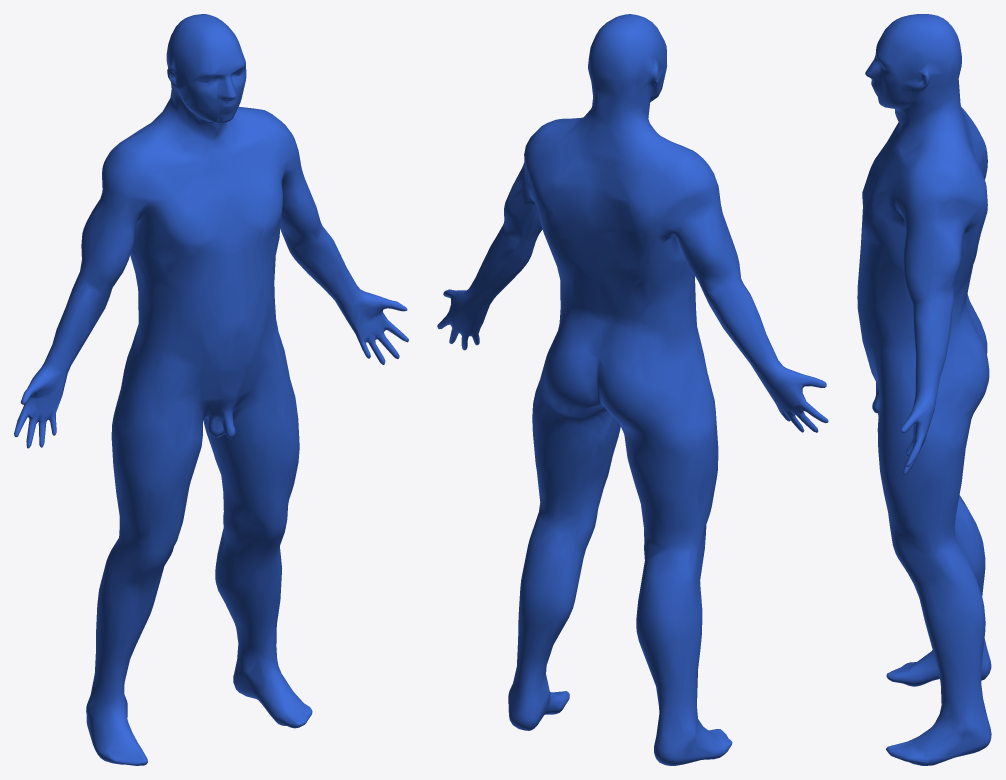
The model's file is skin_shell.glb.
The picture shows the model from 3 angles, left to right: view 1: azimuth 30°, elevation 25°; view 2: azimuth 150°, elevation 25°; view 3: azimuth 270°, elevation 25°; orthographic projection. The views are drawn at different scales.
Parts seen in each view (by area): view 1: VH_M_skin; view 2: VH_M_skin; view 3: VH_M_skin.
Part boxes in pixels (bbox=[...]): VH_M_skin: bbox=[14, 14, 408, 765]; VH_M_skin: bbox=[437, 14, 828, 765]; VH_M_skin: bbox=[857, 14, 991, 765].
Size of the model in its own units: 1.05 by 1.83 by 0.3157.
